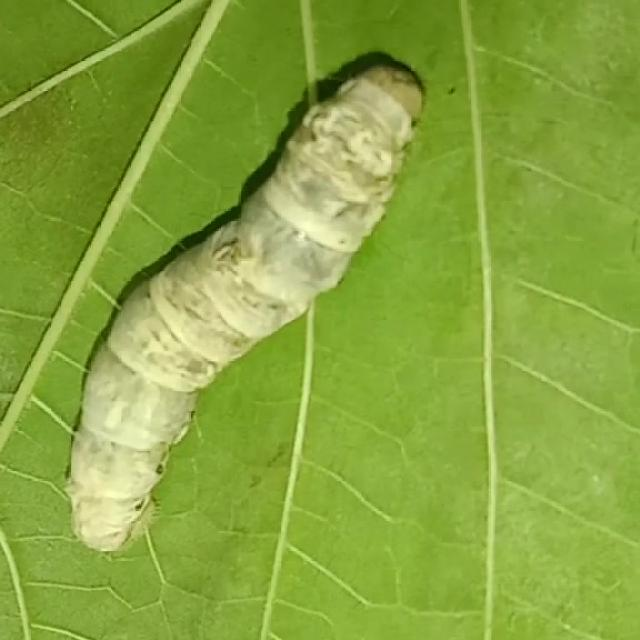Grasserie: (59, 49, 432, 564)
